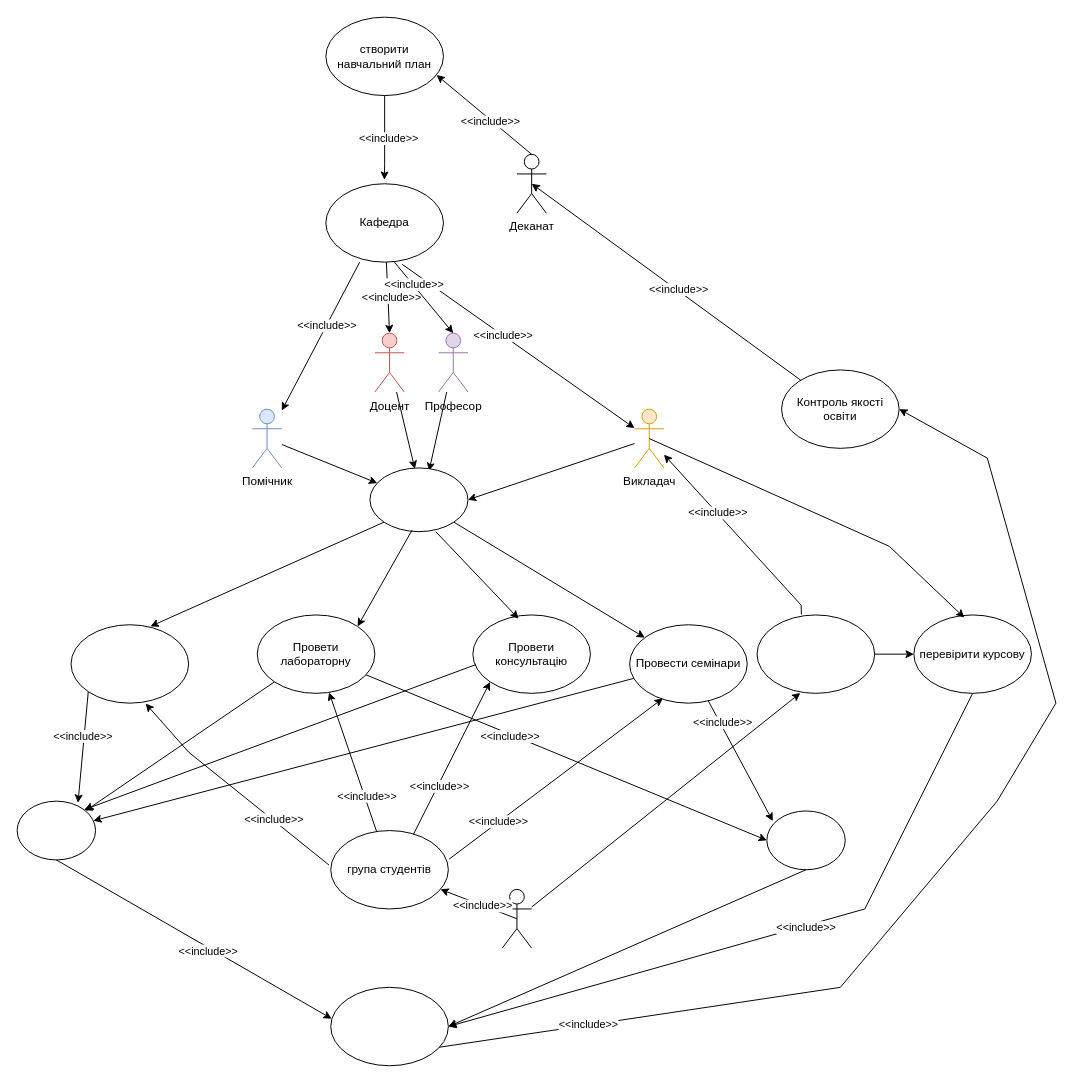
This 1081x1083 diagram has some shape labels left out. Here are the shapes that lost their labels. From the top down, the box of each, then its label:
(369, 467, 468, 532): Предмети які веде викладач
(70, 624, 189, 703): Провести лекції
(756, 614, 875, 693): курсова робота
(16, 800, 96, 860): відмітити присутніх
(766, 810, 845, 870): виставити оцінки
(501, 888, 532, 948): Студент
(330, 986, 448, 1066): журнал
